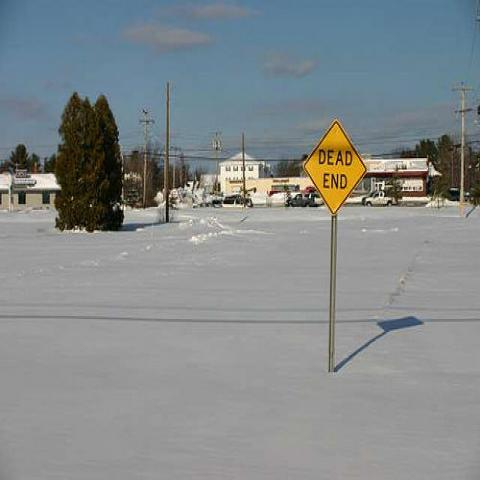car: (307, 194, 326, 206), (224, 194, 244, 205), (246, 198, 254, 208)
truck: (362, 190, 398, 208), (286, 194, 314, 207)
